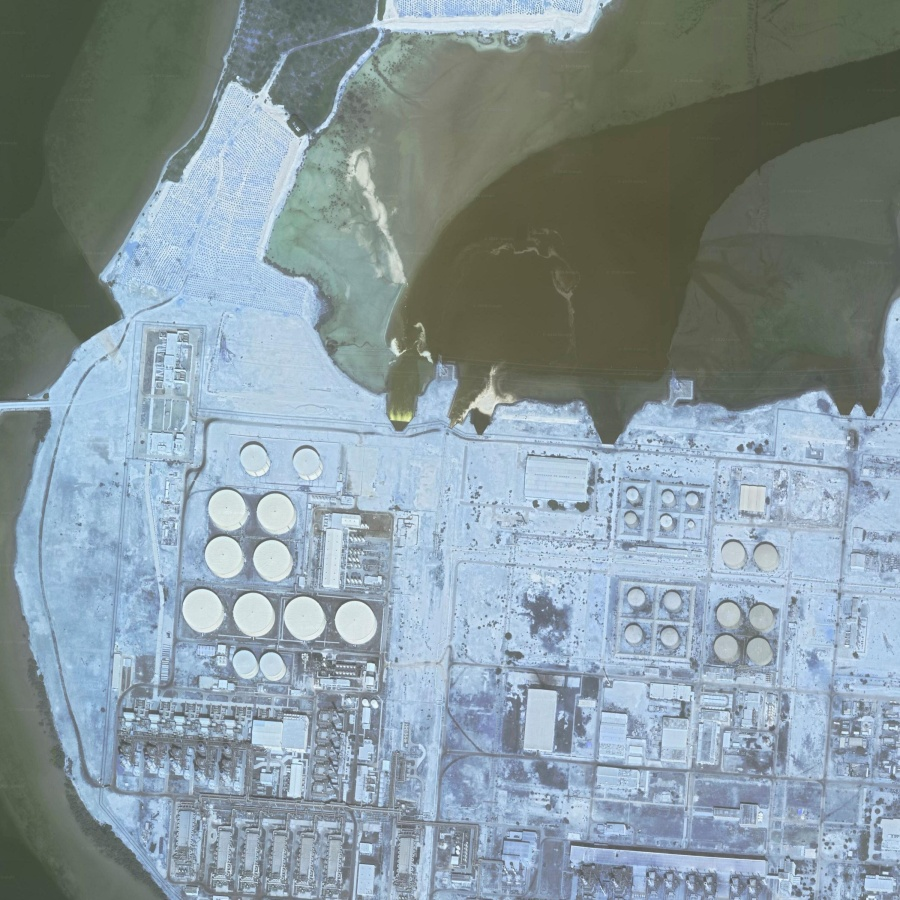PowerPlant: (110, 429, 410, 818)
